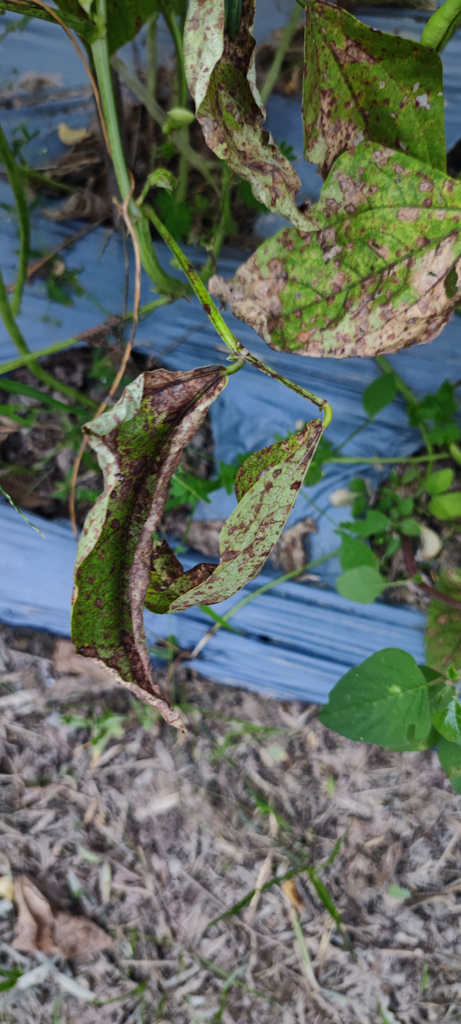Rust: (62, 361, 231, 705), (212, 145, 458, 362), (136, 410, 335, 615), (178, 3, 310, 243), (302, 5, 444, 202)
